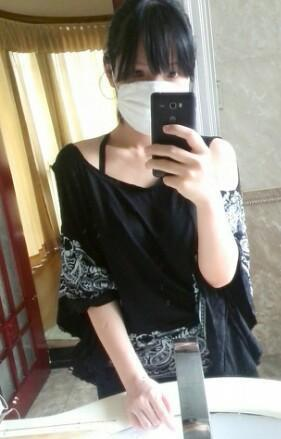OK: (109, 54, 197, 142)
